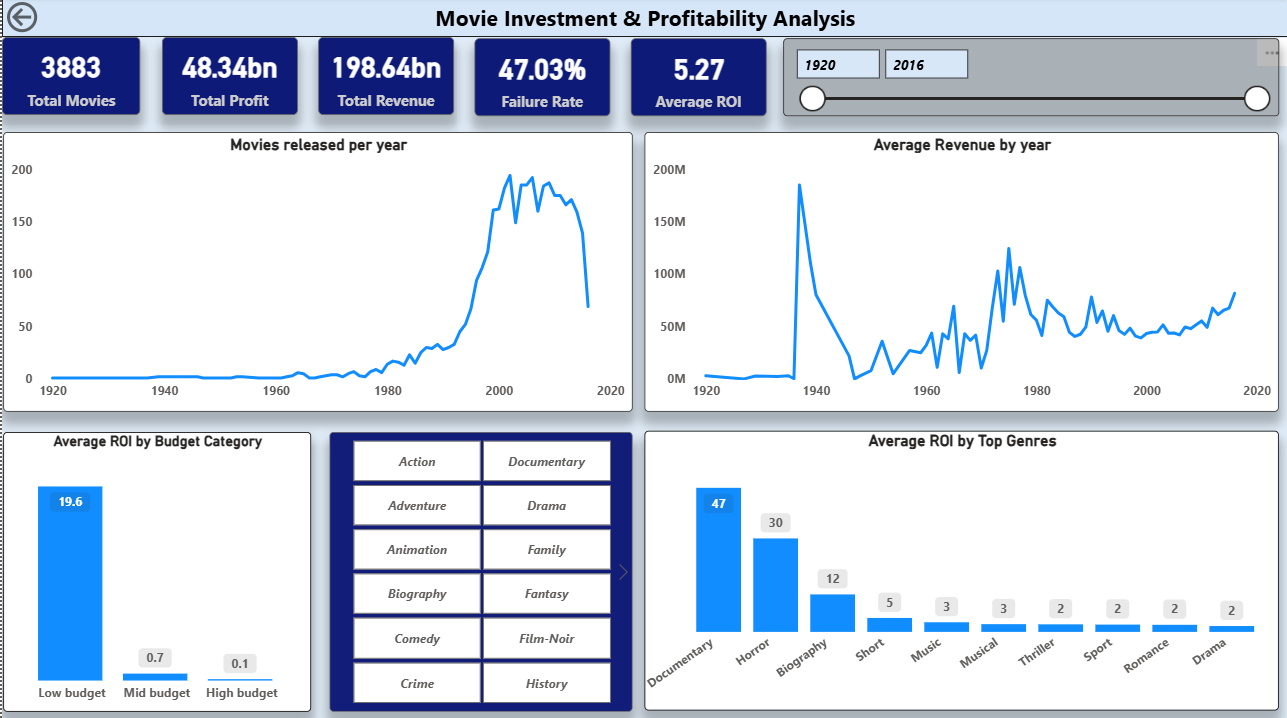

Layout of this report page (visuals, bound fields, positions):
{"tool":"powerbi","page":{"name":"industry overview","canvas":[1280,720],"ordinal":0},"visuals":[{"type":"actionButton","box":[0,0,100,40],"z":0},{"type":"shape","box":[0,0,1280.3,40.3],"z":1000},{"type":"card","fields":{"Values":["movies.total_movies"]},"box":[0,39.5,137.7,77.7],"z":2000},{"type":"card","fields":{"Values":["movies.total_profit"]},"box":[159.5,39.5,135,77.7],"z":3000},{"type":"card","fields":{"Values":["movies.average_roi"]},"box":[625.8,40.9,135,77.7],"z":4000},{"type":"card","fields":{"Values":["movies.failure_rate"]},"box":[470.4,40.9,135,77.7],"z":5000},{"type":"card","fields":{"Values":["movies.total_revenue"]},"box":[315,39.5,135,77.7],"z":6000},{"type":"slicer","fields":{"Values":["movies.year"]},"box":[777.2,40.9,493.6,77.7],"z":7000},{"type":"lineChart","title":"Movies released per year","fields":{"Category":["movies.year"],"Y":["movies.total_movies"]},"box":[1.2,133.8,626.2,278.8],"z":8000},{"type":"columnChart","title":"Average ROI by Budget Category","fields":{"Category":["movies.budget_category"],"Y":["Avg(movies.roi)"]},"box":[1.2,432.5,306.2,278.8],"z":9000},{"type":"lineChart","title":"Average Revenue by year","fields":{"Y":["Avg(movies.revenue)"],"Category":["movies.year"]},"box":[640,133.8,631.2,278.8],"z":10000},{"type":"columnChart","title":"Average ROI by Top Genres","fields":{"Y":["Avg(movies.roi)"],"Category":["genres.genre"]},"box":[640,431.4,631.4,278.6],"z":11000},{"type":"slicer","fields":{"Values":["genres.genre"]},"box":[325.7,432.9,301.4,278.6],"z":12000}]}

Visuals, with their boxes in screenshot pixels (x1, y1, x2, y2), scaled from the page's 1280x720 canvas onto the 1287x718 screenshot:
actionButton: {"left": 0, "top": 0, "right": 101, "bottom": 40}
shape: {"left": 0, "top": 0, "right": 1286, "bottom": 40}
card - movies.total_movies: {"left": 0, "top": 39, "right": 138, "bottom": 117}
card - movies.total_profit: {"left": 160, "top": 39, "right": 296, "bottom": 117}
card - movies.average_roi: {"left": 629, "top": 41, "right": 765, "bottom": 118}
card - movies.failure_rate: {"left": 473, "top": 41, "right": 609, "bottom": 118}
card - movies.total_revenue: {"left": 317, "top": 39, "right": 452, "bottom": 117}
slicer - movies.year: {"left": 781, "top": 41, "right": 1278, "bottom": 118}
"Movies released per year" lineChart: {"left": 1, "top": 133, "right": 631, "bottom": 411}
"Average ROI by Budget Category" columnChart: {"left": 1, "top": 431, "right": 309, "bottom": 709}
"Average Revenue by year" lineChart: {"left": 644, "top": 133, "right": 1278, "bottom": 411}
"Average ROI by Top Genres" columnChart: {"left": 644, "top": 430, "right": 1278, "bottom": 708}
slicer - genres.genre: {"left": 327, "top": 432, "right": 631, "bottom": 710}
